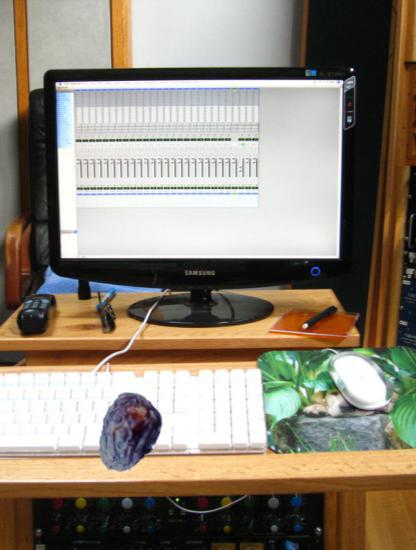Dates: (86, 392, 165, 471)
